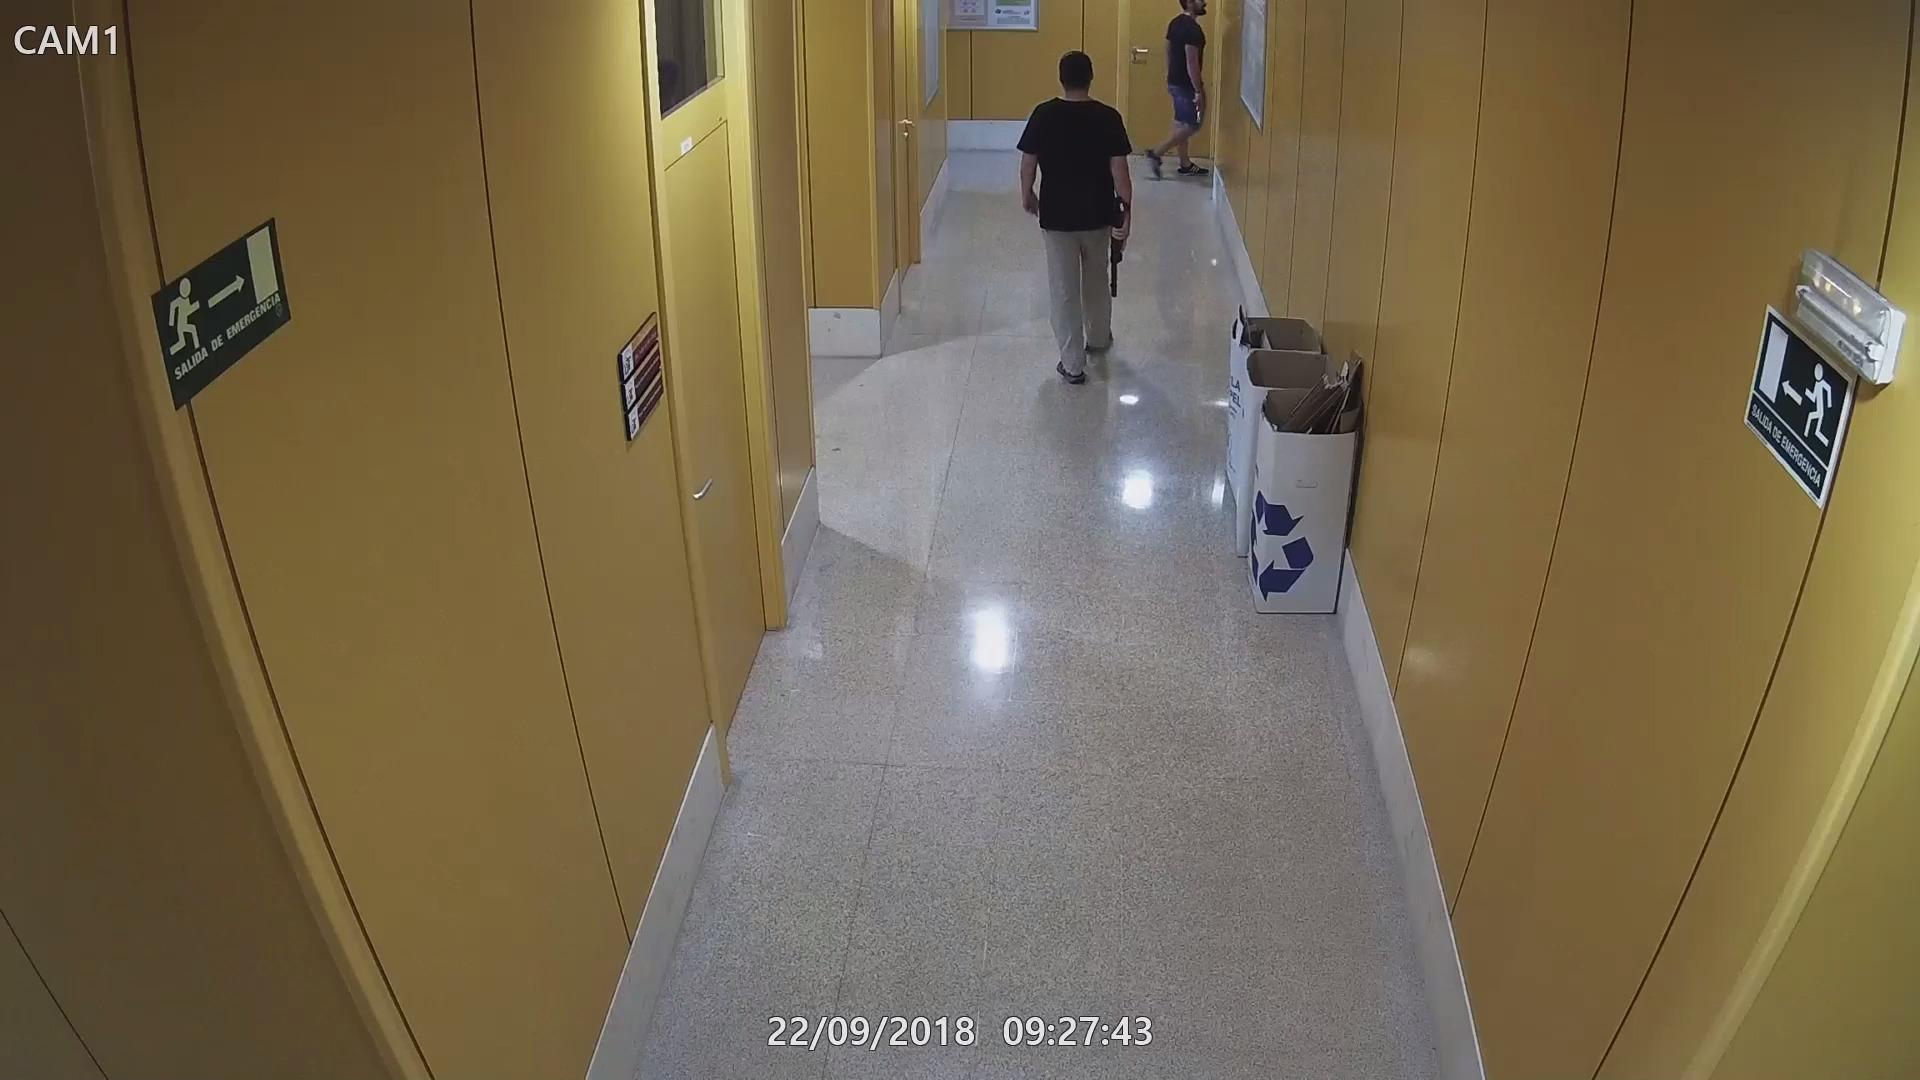Handgun: (1185, 83, 1212, 123)
